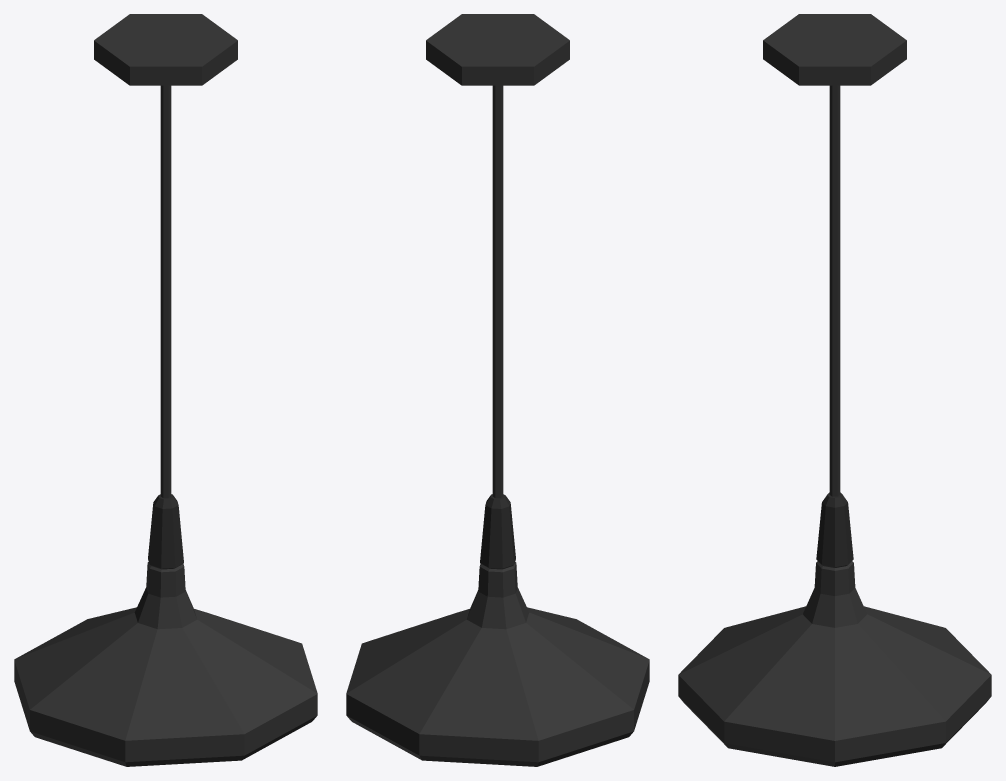
File: SM_Props_Interior_Shop_Light_CeilingLight_03.fbx
The picture shows the model from 3 angles, left to right: view 1: azimuth 30°, elevation 25°; view 2: azimuth 150°, elevation 25°; view 3: azimuth 270°, elevation 25°; orthographic projection.
Visible parts, largest first — view 1: SM_Props_Interior_Shop_Light_CeilingLight_03; view 2: SM_Props_Interior_Shop_Light_CeilingLight_03; view 3: SM_Props_Interior_Shop_Light_CeilingLight_03.
Boxes of the visible parts, x1,y1,x2,y2 form: SM_Props_Interior_Shop_Light_CeilingLight_03: (14,14,317,766); SM_Props_Interior_Shop_Light_CeilingLight_03: (346,14,649,766); SM_Props_Interior_Shop_Light_CeilingLight_03: (678,14,991,766).
Size of the model in its own units: 30 by 72.79 by 30.
